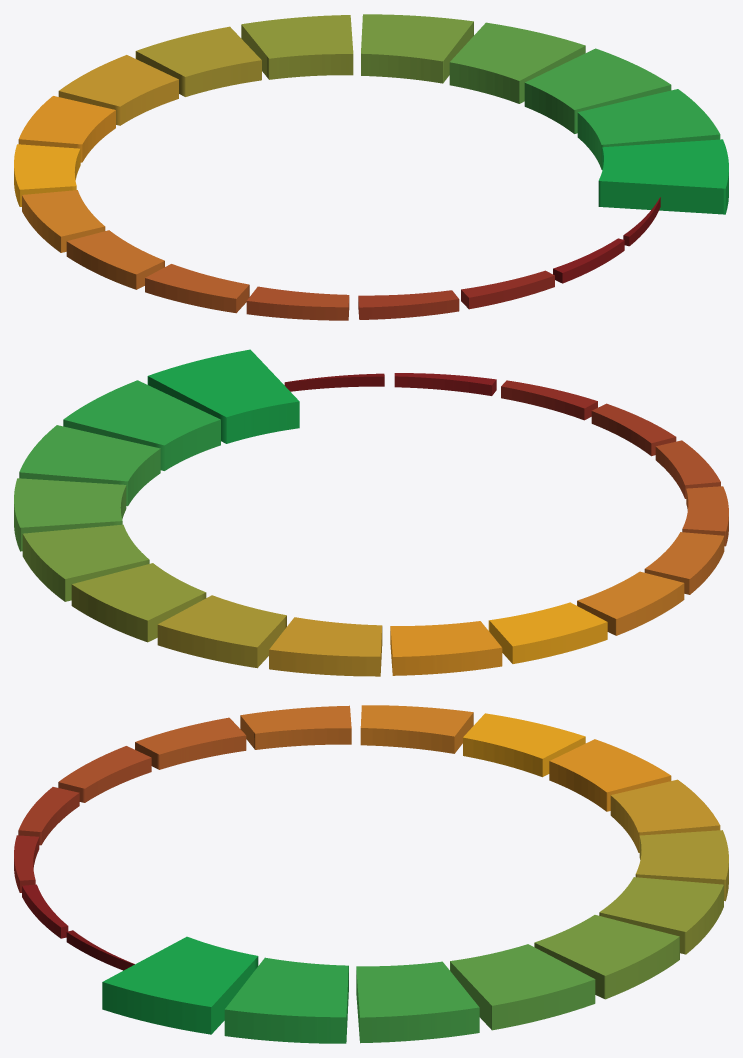
File: Gauge.fbx
3 views of the same model, one above another, from view 1: azimuth 30°, elevation 25°; view 2: azimuth 150°, elevation 25°; view 3: azimuth 270°, elevation 25° (orthographic). The views are drawn at different scales.
Visible parts, largest first — view 1: Curve.003, Curve.006, Curve.005, Curve.007, Curve.004, Curve.008, Curve.009, Curve.010, Curve.011, Curve.014, Curve.013, Curve.015 (+6 smaller); view 2: Curve.003, Curve.004, Curve.005, Curve.009, Curve.008, Curve.007, Curve.010, Curve.006, Curve.011, Curve.012, Curve.013, Curve.014 (+6 smaller); view 3: Curve.003, Curve.004, Curve.005, Curve.006, Curve.007, Curve.008, Curve.012, Curve.011, Curve.010, Curve.013, Curve.009, Curve.014 (+6 smaller).
Part boxes in pixels (left/top/right/bottom): Curve.003: left=598, top=139, right=728, bottom=214; Curve.006: left=449, top=22, right=585, bottom=103; Curve.005: left=524, top=48, right=671, bottom=133; Curve.007: left=361, top=14, right=473, bottom=83; Curve.004: left=577, top=89, right=720, bottom=169; Curve.008: left=241, top=15, right=353, bottom=79; Curve.009: left=135, top=26, right=261, bottom=96; Curve.010: left=58, top=55, right=178, bottom=125; Curve.011: left=18, top=96, right=115, bottom=162; Curve.014: left=66, top=230, right=164, bottom=289; Curve.013: left=22, top=190, right=105, bottom=252; Curve.015: left=145, top=264, right=249, bottom=313; Curve.003: left=147, top=349, right=299, bottom=443; Curve.004: left=63, top=380, right=220, bottom=470; Curve.005: left=19, top=425, right=160, bottom=506; Curve.009: left=157, top=595, right=286, bottom=668; Curve.008: left=71, top=563, right=206, bottom=642; Curve.007: left=22, top=524, right=149, bottom=601; Curve.010: left=269, top=617, right=382, bottom=676; Curve.006: left=14, top=478, right=126, bottom=551; Curve.011: left=390, top=621, right=502, bottom=675; Curve.012: left=488, top=602, right=607, bottom=663; Curve.013: left=577, top=571, right=684, bottom=635; Curve.014: left=644, top=532, right=724, bottom=594; Curve.003: left=102, top=936, right=258, bottom=1034; Curve.004: left=224, top=957, right=348, bottom=1043; Curve.005: left=356, top=961, right=479, bottom=1043; Curve.006: left=450, top=944, right=595, bottom=1030; Curve.007: left=534, top=915, right=679, bottom=999; Curve.008: left=599, top=877, right=723, bottom=954; Curve.012: left=463, top=713, right=585, bottom=777; Curve.011: left=549, top=739, right=671, bottom=811; Curve.010: left=610, top=779, right=720, bottom=852; Curve.013: left=360, top=705, right=473, bottom=753; Curve.009: left=635, top=830, right=728, bottom=901; Curve.014: left=240, top=705, right=351, bottom=749.
Size of the model in its own units: 13.29 by 0.54 by 12.68.
